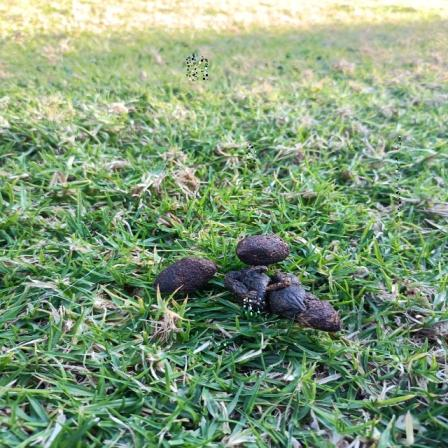dog-poop: (231, 225, 341, 330), (158, 251, 210, 293)
